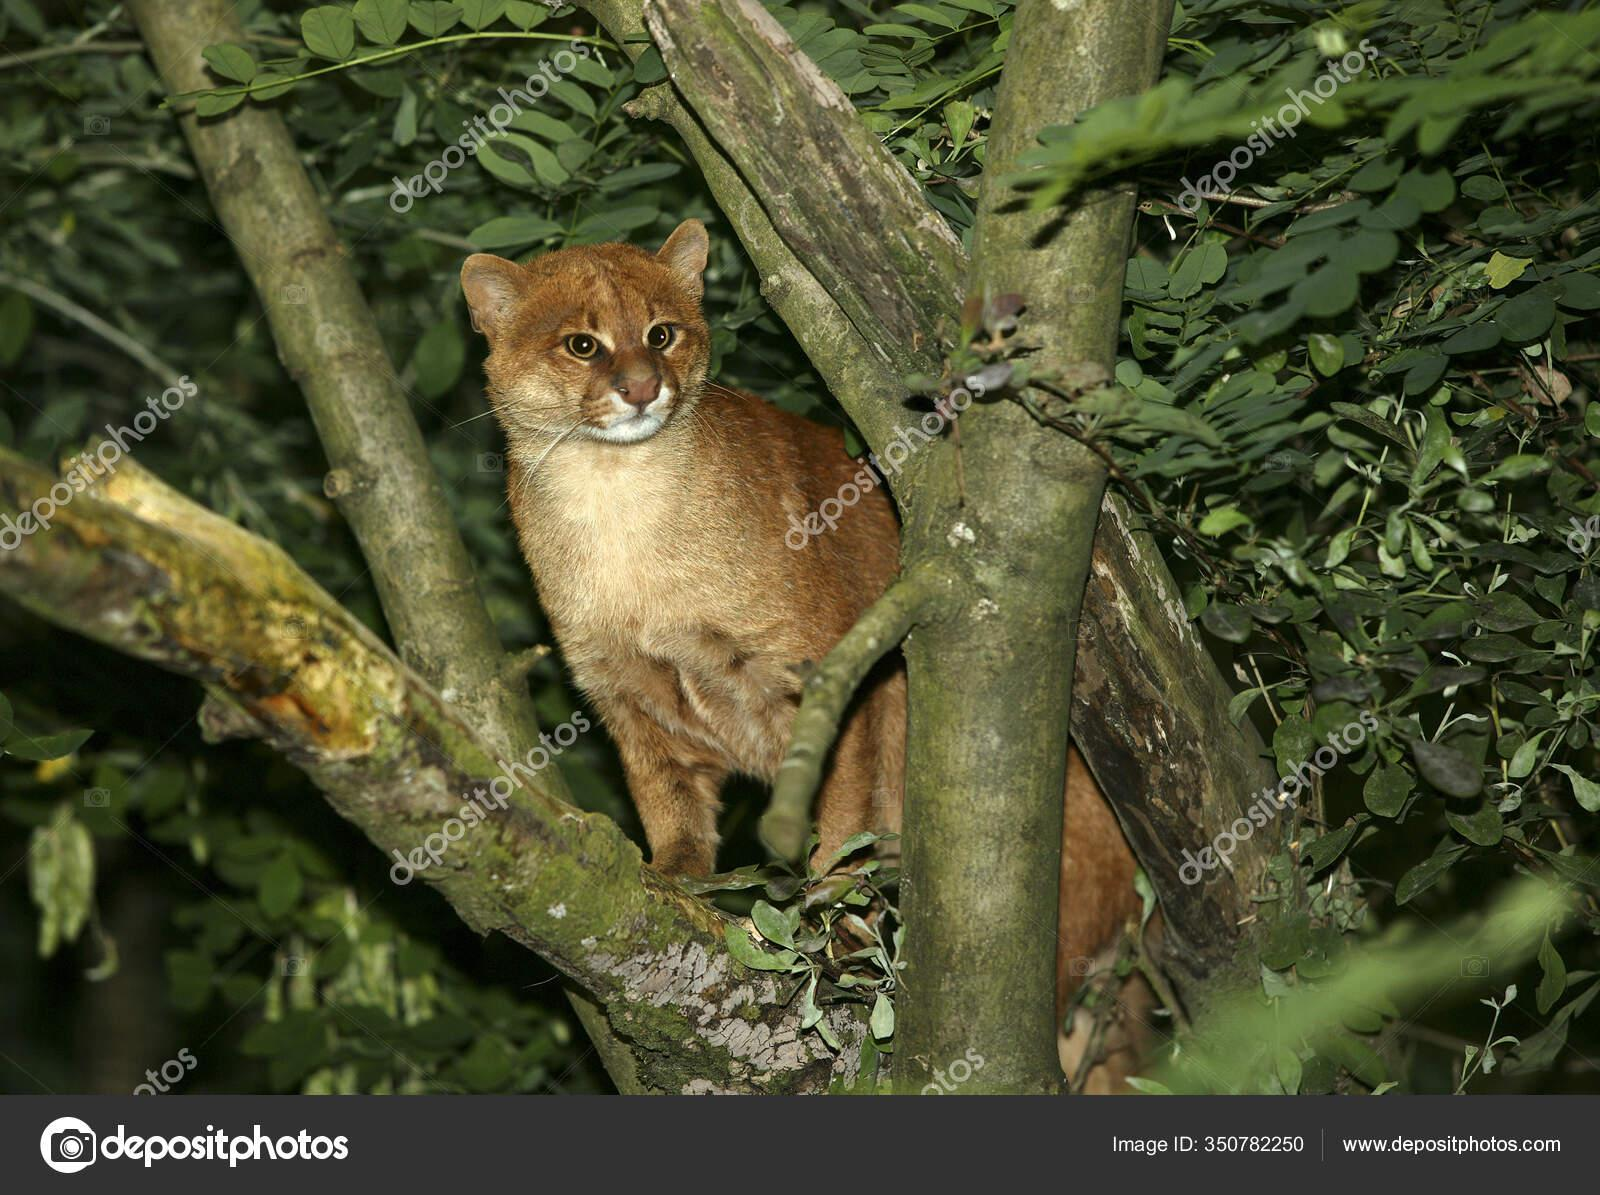Jaguarundi: (430, 213, 936, 898)
